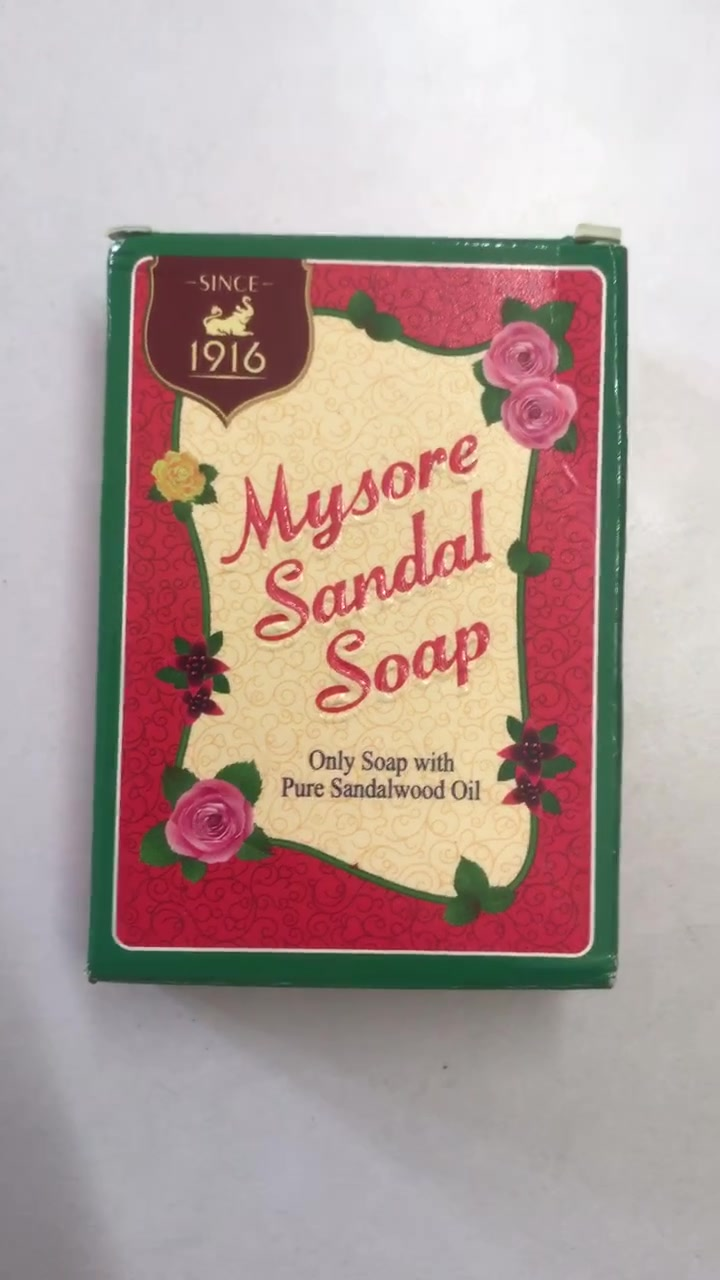mysore sandal soap: (95, 216, 628, 1002)
